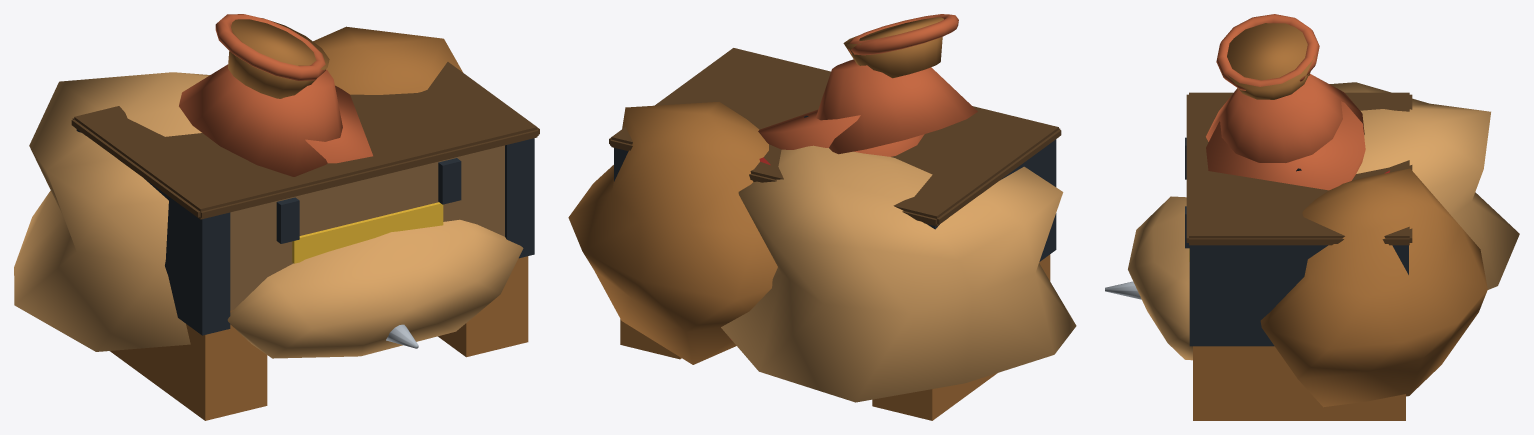
Rendered from v092_tactical_pickups.glb.
3 renders of one model, left to right at view 1: azimuth 30°, elevation 25°; view 2: azimuth 150°, elevation 25°; view 3: azimuth 270°, elevation 25°, orthographic. The views are drawn at different scales.
Visible parts, largest first — view 1: ahsarah_desert_stash, ahsarah_loot_table; view 2: ahsarah_desert_stash, ahsarah_loot_table; view 3: ahsarah_desert_stash, ahsarah_loot_table.
Boxes of the visible parts, x1,y1,x2,y2 form: ahsarah_desert_stash: (14, 14, 523, 358); ahsarah_loot_table: (71, 62, 539, 420); ahsarah_desert_stash: (568, 14, 1076, 402); ahsarah_loot_table: (609, 48, 1061, 420); ahsarah_desert_stash: (1128, 14, 1519, 407); ahsarah_loot_table: (1185, 92, 1412, 420).
Bounding box in the file's own units: 1.59 × 1.08 × 1.32.
